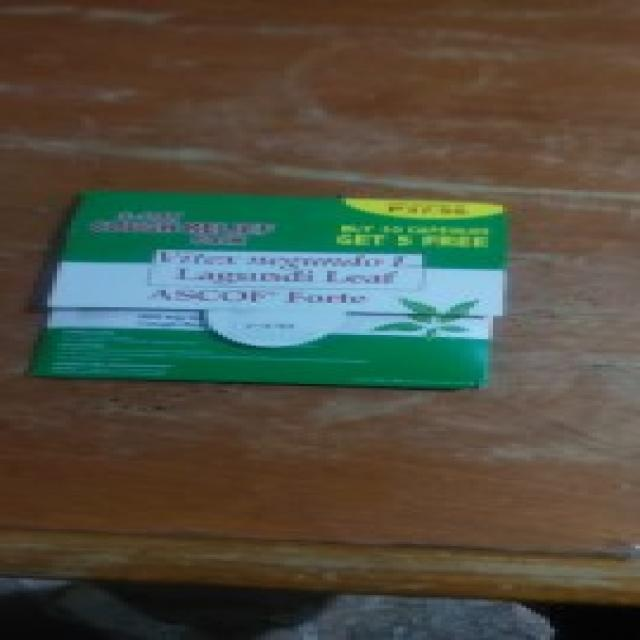Cacat: (49, 191, 481, 379)
